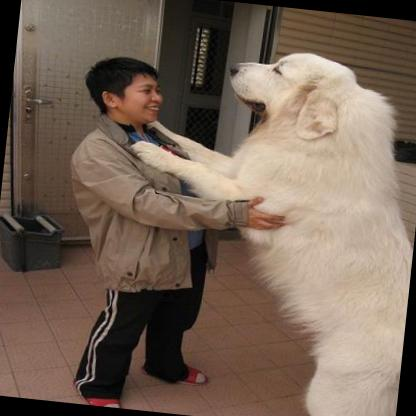Great_Pyrenees: (96, 33, 416, 416)
